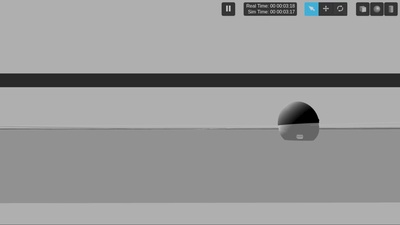mira_robot: (277, 102, 320, 142)
